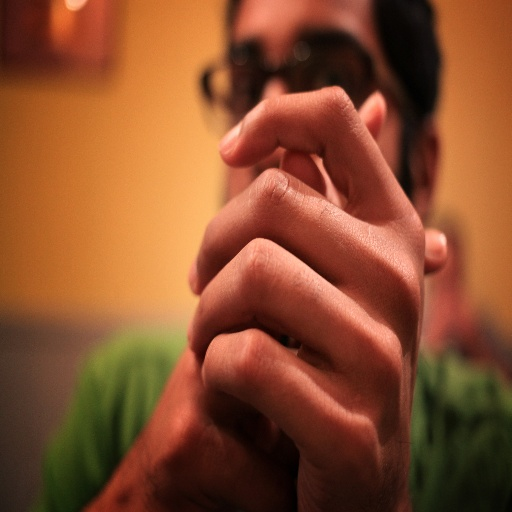hand: (141, 75, 449, 511)
